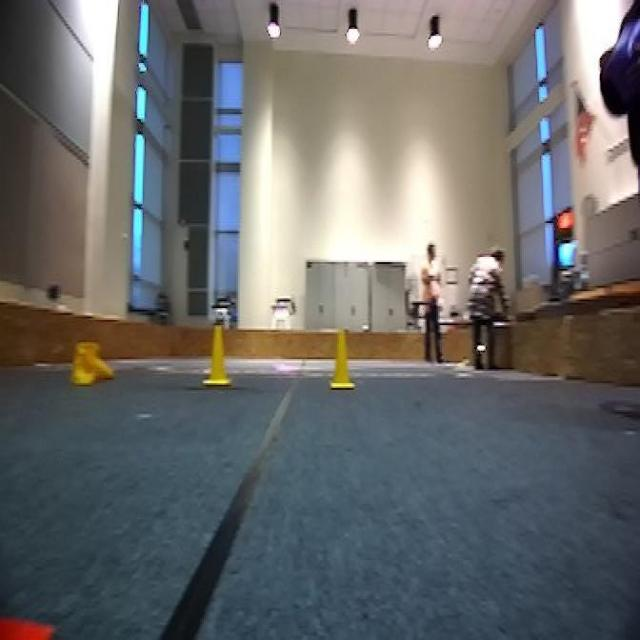frc_cone: (72, 339, 116, 386), (203, 322, 232, 388), (328, 330, 355, 392)
frc_cube: (600, 21, 640, 119)
